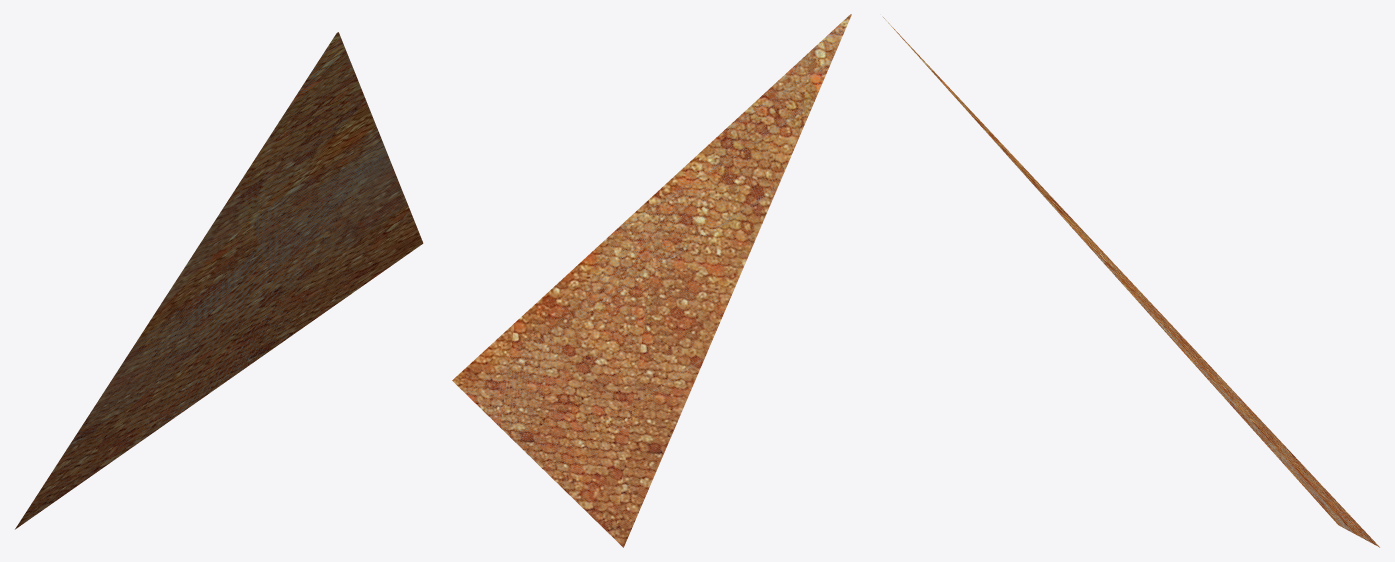
File: 西庸城堡354.dae
The picture shows the model from 3 angles, left to right: view 1: azimuth 30°, elevation 25°; view 2: azimuth 150°, elevation 25°; view 3: azimuth 270°, elevation 25°; orthographic projection. The views are drawn at different scales.
Parts seen in each view (by area): view 1: SketchUp; view 2: SketchUp; view 3: SketchUp.
Part boxes in pixels (x1,y1,x2,y2): SketchUp: (15, 32, 423, 529); SketchUp: (452, 14, 851, 547); SketchUp: (882, 16, 1379, 547).
Bounding box in the file's own units: 159 × 243 × 274.
